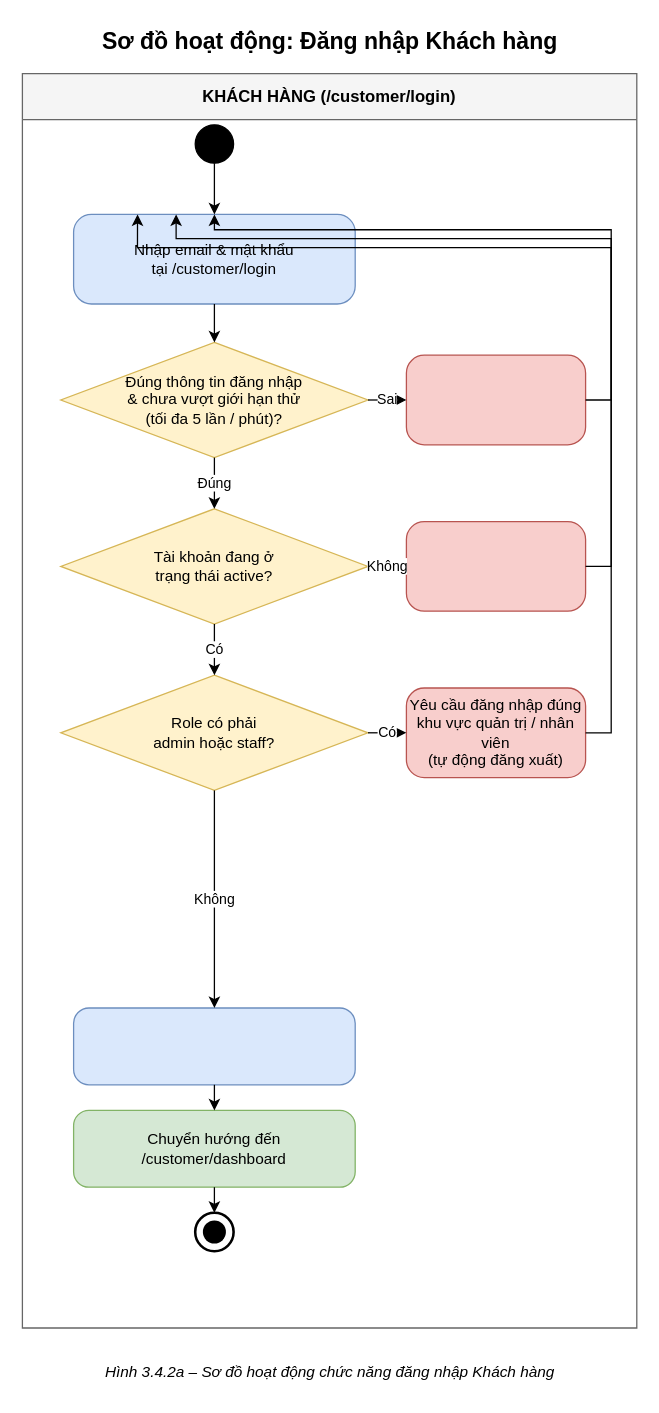
Image size: 659x1413. Some labels were removed from this diagram. The centre of each missing label's shape, as x and y in pixels:
"Sai email/mật khẩu hoặc quá nhiều lần thử" belongs at pixel 495 399.
"Tài khoản bị khóa hoặc chưa kích hoạt (tự động đăng xuất)" belongs at pixel 495 565.
"Tạo session mới (login_context = customer)" belongs at pixel 213 1046.
